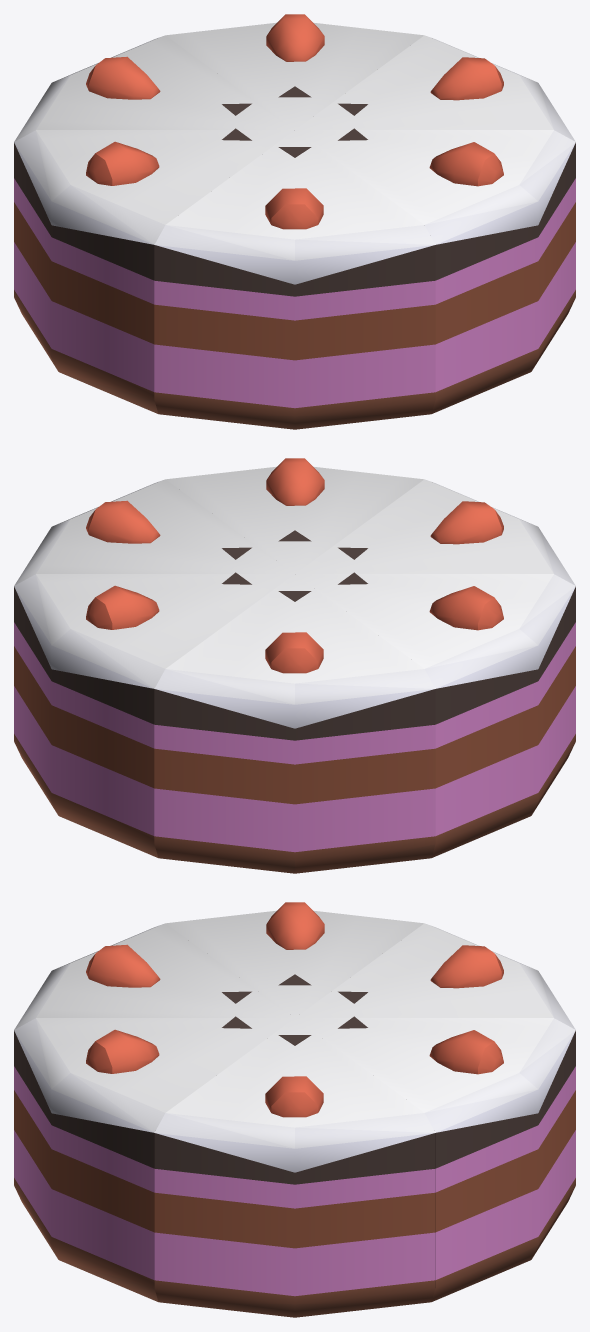
File: cake.glb
3 renders of one model, top to bottom at view 1: azimuth 30°, elevation 25°; view 2: azimuth 150°, elevation 25°; view 3: azimuth 270°, elevation 25°, orthographic.
Visible parts, largest first — view 1: slice.001, slice.005, slice, slice.002, slice.004, slice.003; view 2: slice.002, slice.003, slice, slice.001, slice.004, slice.005; view 3: slice.004, slice.003, slice.005, slice.001, slice.002, slice.
Boxes of the visible parts, x1=… form: slice.001: x1=154, y1=130, x2=435, y2=429; slice.005: x1=295, y1=128, x2=575, y2=413; slice: x1=14, y1=128, x2=294, y2=413; slice.002: x1=14, y1=35, x2=294, y2=141; slice.004: x1=295, y1=35, x2=575, y2=141; slice.003: x1=166, y1=14, x2=423, y2=129; slice.002: x1=154, y1=574, x2=435, y2=873; slice.003: x1=14, y1=572, x2=294, y2=857; slice: x1=295, y1=572, x2=575, y2=857; slice.001: x1=295, y1=479, x2=575, y2=585; slice.004: x1=14, y1=479, x2=294, y2=585; slice.005: x1=166, y1=458, x2=423, y2=573; slice.004: x1=154, y1=1018, x2=435, y2=1317; slice.003: x1=295, y1=1016, x2=575, y2=1301; slice.005: x1=14, y1=1016, x2=294, y2=1301; slice.001: x1=14, y1=923, x2=294, y2=1029; slice.002: x1=295, y1=923, x2=575, y2=1029; slice: x1=166, y1=902, x2=423, y2=1017.
Size of the model in its own units: 0.2107 by 0.09 by 0.2107.
